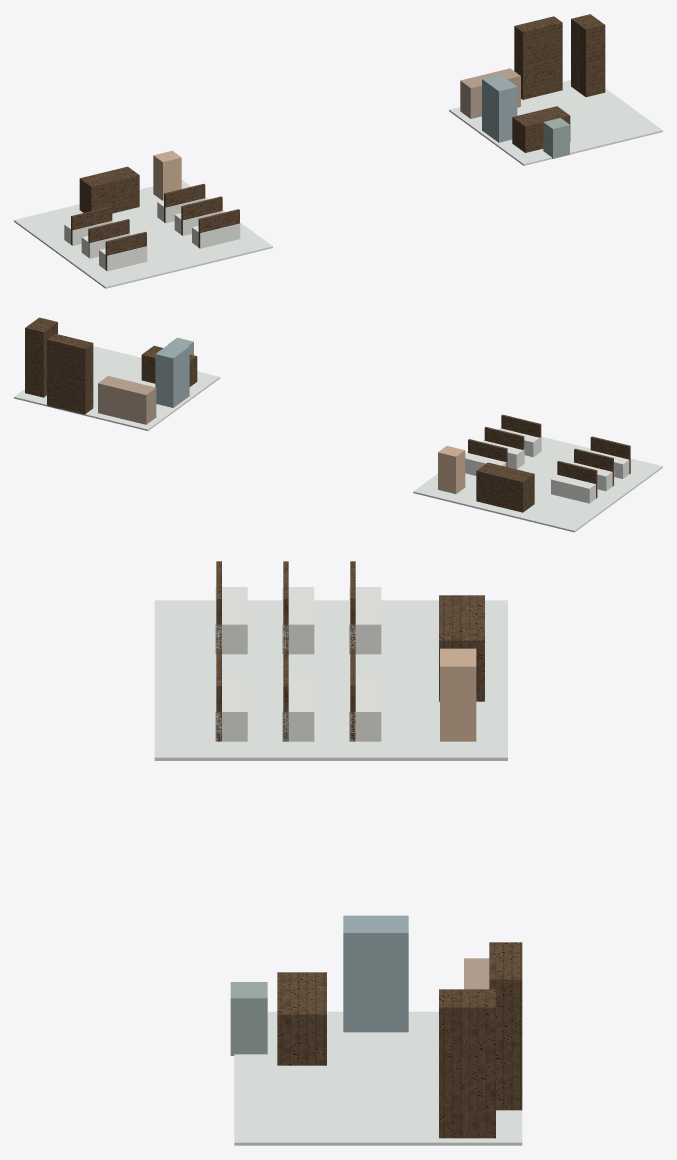
File: EST02.glb
The picture shows the model from 3 angles, top to bottom: view 1: azimuth 30°, elevation 25°; view 2: azimuth 150°, elevation 25°; view 3: azimuth 270°, elevation 25°; orthographic projection. The views are drawn at different scales.
Visible parts, largest first — view 1: CAPELA_piso_demonstrativo, APOIO_piso_demonstrativo, EST02_APOIO_estante_fundos, EST02_APOIO_armario_alto, EST02_CAPELA_altarbanco, EST02_APOIO_arquivo, EST02_APOIO_mesa_atendimento, EST02_APOIO_bancada_ferramentas, EST02_CAPELA_livro_apoio_grande, EST02_APOIO_cadeira, EST02_CAPELA_banco_L1_assento, EST02_CAPELA_banco_R1_assento (+10 smaller); view 2: CAPELA_piso_demonstrativo, EST02_APOIO_estante_fundos, APOIO_piso_demonstrativo, EST02_CAPELA_altarbanco, EST02_APOIO_bancada_ferramentas, EST02_APOIO_arquivo, EST02_APOIO_armario_alto, EST02_CAPELA_livro_apoio_grande, EST02_CAPELA_banco_L3_assento, EST02_APOIO_mesa_atendimento, EST02_CAPELA_banco_L3_encosto, EST02_CAPELA_banco_L1_encosto (+9 smaller); view 3: CAPELA_piso_demonstrativo, APOIO_piso_demonstrativo, EST02_APOIO_armario_alto, EST02_APOIO_arquivo, EST02_APOIO_estante_fundos, EST02_APOIO_mesa_atendimento, EST02_CAPELA_livro_apoio_grande, EST02_CAPELA_altarbanco, EST02_APOIO_cadeira, EST02_CAPELA_banco_R2_assento, EST02_CAPELA_banco_L3_assento, EST02_CAPELA_banco_L2_assento (+4 smaller).
Part boxes in pixels (x1=…): CAPELA_piso_demonstrativo: x1=14, y1=180, x2=272, y2=288; APOIO_piso_demonstrativo: x1=449, y1=80, x2=662, y2=165; EST02_APOIO_estante_fundos: x1=514, y1=16, x2=562, y2=99; EST02_APOIO_armario_alto: x1=571, y1=14, x2=605, y2=97; EST02_CAPELA_altarbanco: x1=79, y1=166, x2=139, y2=213; EST02_APOIO_arquivo: x1=482, y1=74, x2=517, y2=142; EST02_APOIO_mesa_atendimento: x1=512, y1=106, x2=570, y2=152; EST02_APOIO_bancada_ferramentas: x1=460, y1=68, x2=520, y2=118; EST02_CAPELA_livro_apoio_grande: x1=153, y1=150, x2=181, y2=200; EST02_APOIO_cadeira: x1=543, y1=118, x2=569, y2=158; EST02_CAPELA_banco_L1_assento: x1=99, y1=246, x2=147, y2=271; EST02_CAPELA_banco_R1_assento: x1=192, y1=223, x2=240, y2=248; CAPELA_piso_demonstrativo: x1=413, y1=427, x2=662, y2=532; EST02_APOIO_estante_fundos: x1=47, y1=333, x2=93, y2=414; APOIO_piso_demonstrativo: x1=14, y1=346, x2=219, y2=430; EST02_CAPELA_altarbanco: x1=476, y1=462, x2=534, y2=512; EST02_APOIO_bancada_ferramentas: x1=98, y1=376, x2=156, y2=424; EST02_APOIO_arquivo: x1=155, y1=342, x2=189, y2=407; EST02_APOIO_armario_alto: x1=25, y1=317, x2=57, y2=397; EST02_CAPELA_livro_apoio_grande: x1=438, y1=446, x2=465, y2=493; EST02_CAPELA_banco_L3_assento: x1=551, y1=475, x2=597, y2=503; EST02_APOIO_mesa_atendimento: x1=141, y1=345, x2=197, y2=386; EST02_CAPELA_banco_L3_encosto: x1=557, y1=461, x2=597, y2=498; EST02_CAPELA_banco_L1_encosto: x1=590, y1=436, x2=630, y2=473; CAPELA_piso_demonstrativo: x1=154, y1=600, x2=507, y2=760; APOIO_piso_demonstrativo: x1=234, y1=1011, x2=522, y2=1145; EST02_APOIO_armario_alto: x1=439, y1=989, x2=495, y2=1138; EST02_APOIO_arquivo: x1=343, y1=915, x2=408, y2=1032; EST02_APOIO_estante_fundos: x1=489, y1=942, x2=522, y2=1110; EST02_APOIO_mesa_atendimento: x1=277, y1=972, x2=326, y2=1065; EST02_CAPELA_livro_apoio_grande: x1=440, y1=648, x2=476, y2=741; EST02_CAPELA_altarbanco: x1=439, y1=595, x2=484, y2=701; EST02_APOIO_cadeira: x1=230, y1=982, x2=267, y2=1055; EST02_CAPELA_banco_R2_assento: x1=282, y1=674, x2=314, y2=741; EST02_CAPELA_banco_L3_assento: x1=349, y1=587, x2=381, y2=654; EST02_CAPELA_banco_L2_assento: x1=282, y1=587, x2=314, y2=654.
Bounding box in the file's own units: 16.74 × 1.94 × 4.78.
Materials: 7 (1 with a texture image).
